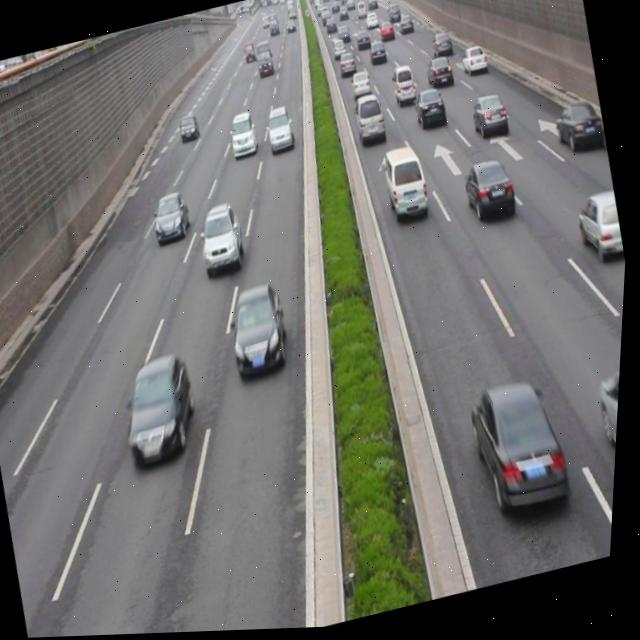car: (465, 374, 581, 524), (117, 349, 210, 473), (224, 281, 298, 384), (572, 190, 630, 270), (593, 367, 624, 515), (194, 200, 252, 278), (460, 158, 521, 231), (552, 100, 606, 160), (149, 189, 196, 247), (467, 93, 512, 146), (263, 105, 299, 156), (411, 87, 449, 135), (225, 111, 261, 161), (423, 57, 457, 95), (459, 45, 490, 81), (176, 112, 203, 145)
truck: (380, 145, 434, 226), (352, 93, 391, 149), (389, 66, 419, 110)
